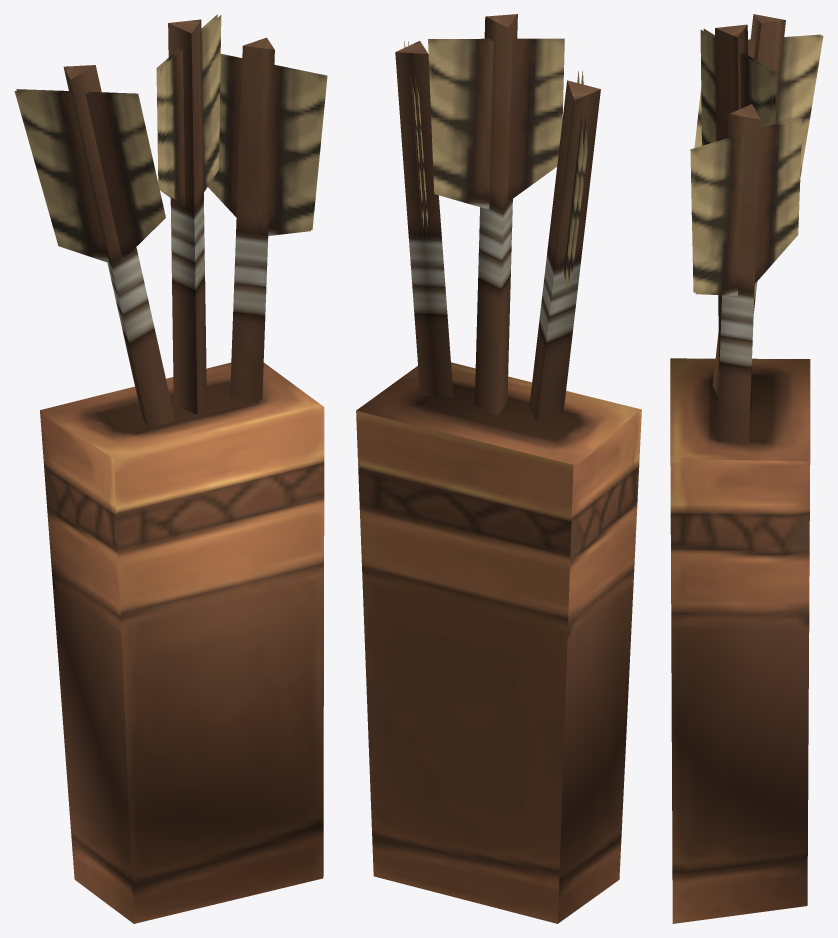
Rendered from DWF_Xtra_quiver.FBX.
3 renders of one model, left to right at view 1: azimuth 30°, elevation 25°; view 2: azimuth 150°, elevation 25°; view 3: azimuth 270°, elevation 25°, orthographic. The views are drawn at different scales.
Parts seen in each view (by area): view 1: DWF_Xtra_quiver; view 2: DWF_Xtra_quiver; view 3: DWF_Xtra_quiver.
Part boxes in pixels (left/top/right/bottom): DWF_Xtra_quiver: left=14, top=14, right=327, bottom=923; DWF_Xtra_quiver: left=356, top=14, right=641, bottom=923; DWF_Xtra_quiver: left=670, top=14, right=823, bottom=923.
Size of the model in its own units: 9.6 by 31.74 by 5.22.
1 material, 1 textured.
